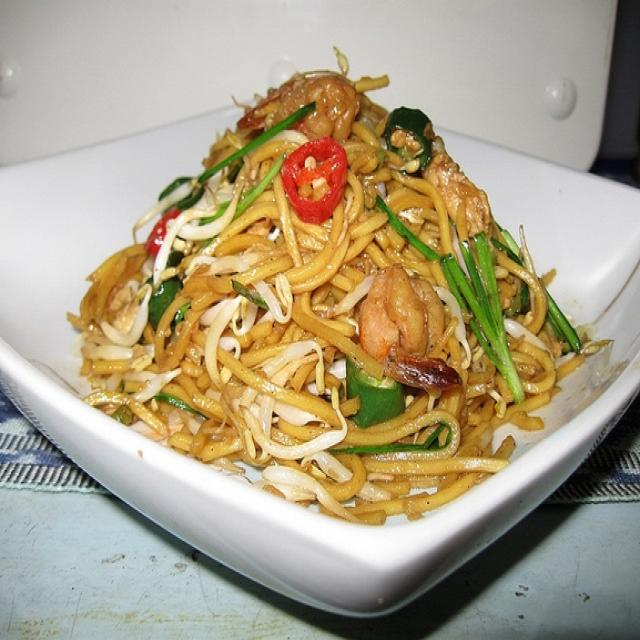面条主食: (31, 24, 599, 584)
